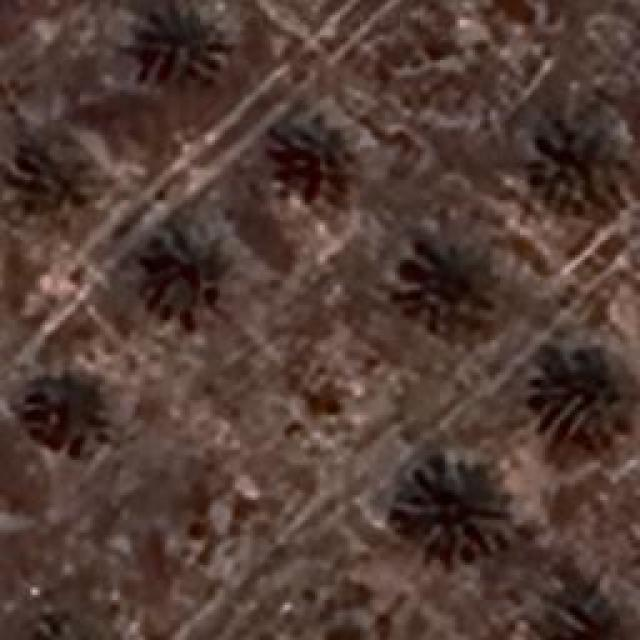PalmTree: (393, 455, 518, 560), (26, 348, 129, 466), (528, 335, 638, 440), (530, 111, 622, 211), (132, 0, 232, 88), (400, 238, 495, 320), (515, 575, 634, 640), (150, 220, 230, 308), (10, 130, 90, 218), (282, 116, 358, 206)
